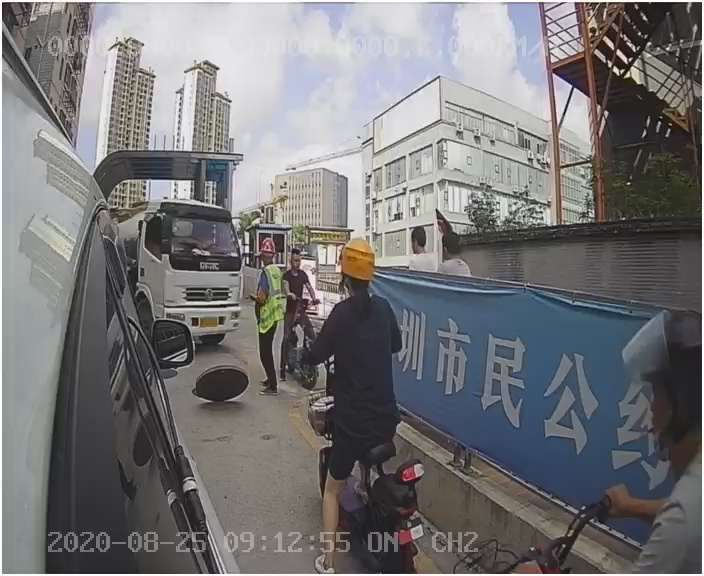person: (245, 238, 291, 398)
